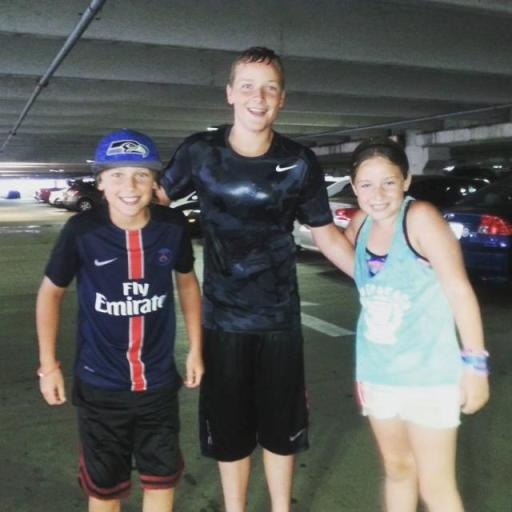Emirates: (92, 278, 169, 318)
